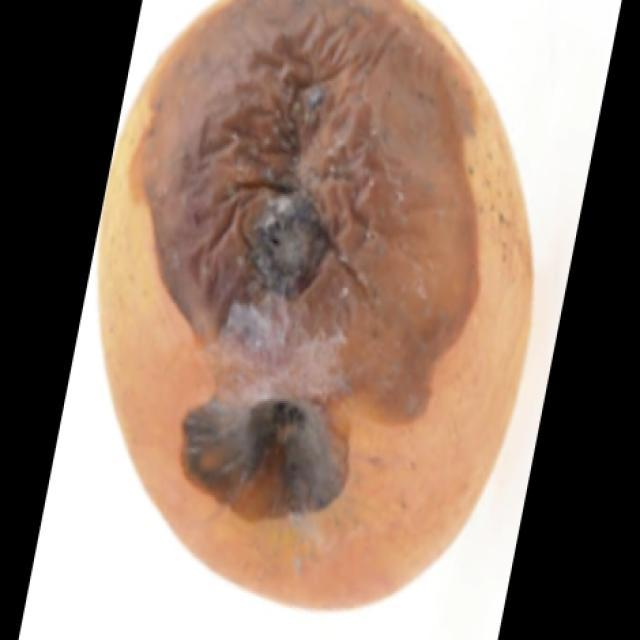Rotten: (106, 0, 556, 606)
